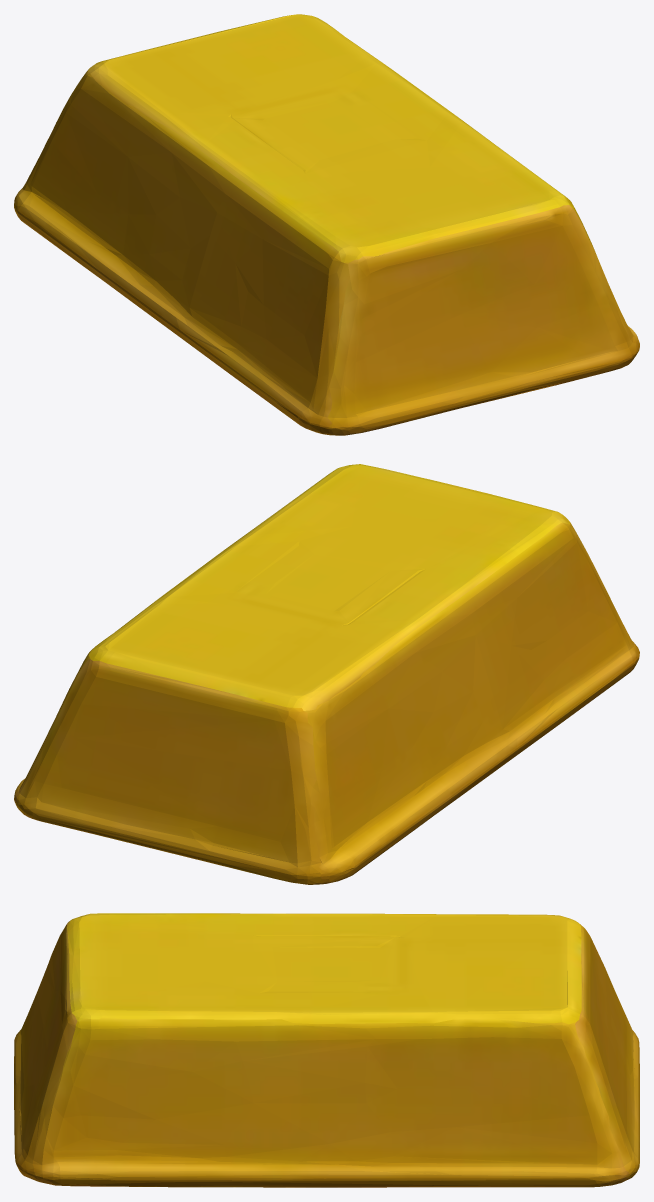
File: goldbar.glb
The picture shows the model from 3 angles, top to bottom: view 1: azimuth 30°, elevation 25°; view 2: azimuth 150°, elevation 25°; view 3: azimuth 270°, elevation 25°; orthographic projection. The views are drawn at different scales.
Parts seen in each view (by area): view 1: geometry_0; view 2: geometry_0; view 3: geometry_0.
Boxes of the visible parts, x1,y1,x2,y2 form: geometry_0: [14, 14, 639, 435]; geometry_0: [14, 464, 639, 884]; geometry_0: [14, 913, 639, 1187].
Size of the model in its own units: 0.1197 by 0.0525 by 0.2.
Materials: 1 (1 with a texture image).
